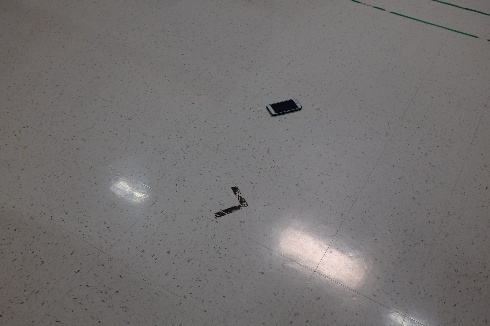phone: (260, 91, 309, 123)
